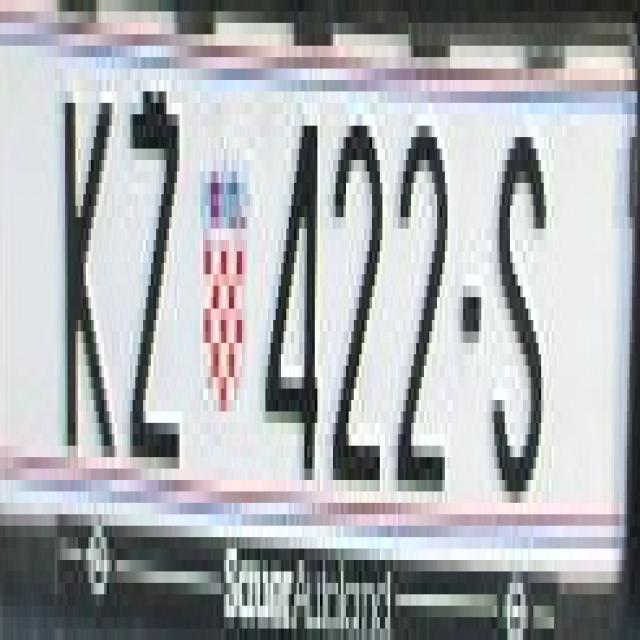2: (396, 114, 452, 492), (330, 114, 385, 480)
4: (266, 91, 318, 480)
K: (60, 80, 125, 457)
S: (489, 148, 554, 503)
Z: (128, 80, 184, 469)
